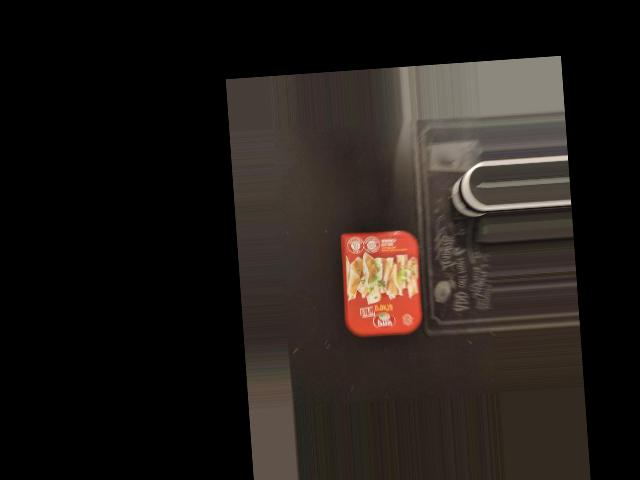cheese: (334, 222, 427, 339)
